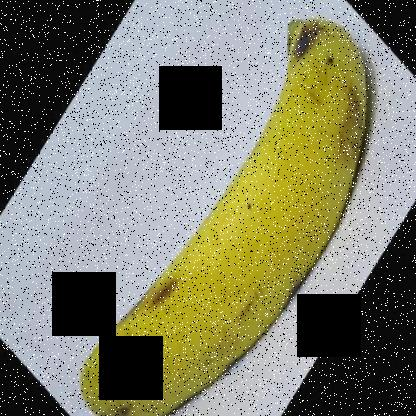freshripe: (75, 0, 382, 415)
